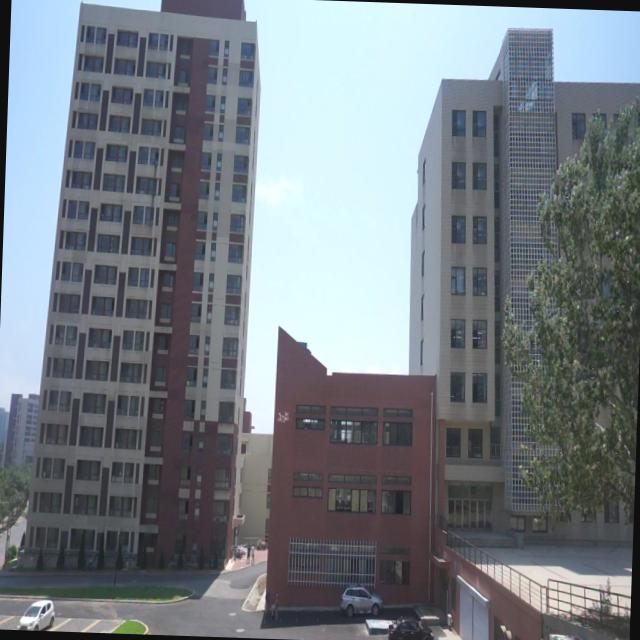drone: (274, 408, 290, 425)
